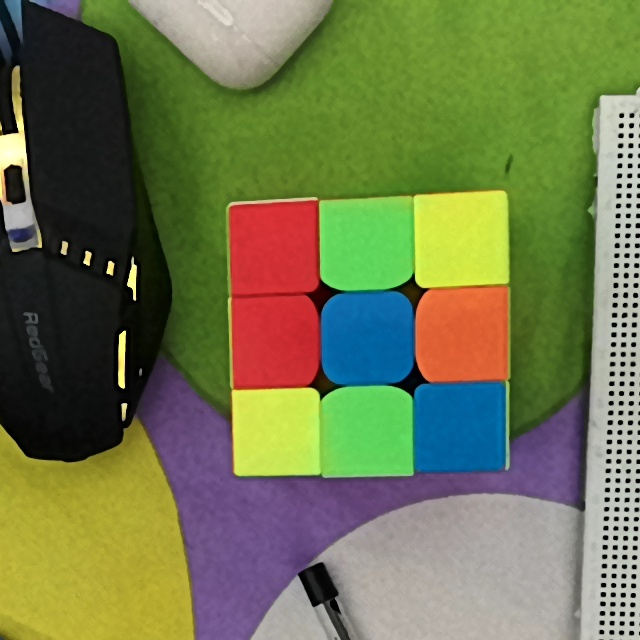tile: (326, 204, 406, 284), (419, 390, 501, 468), (424, 198, 502, 278), (233, 207, 310, 288), (234, 302, 310, 382), (427, 297, 503, 375), (329, 396, 408, 470), (237, 396, 314, 470), (331, 305, 405, 377)
